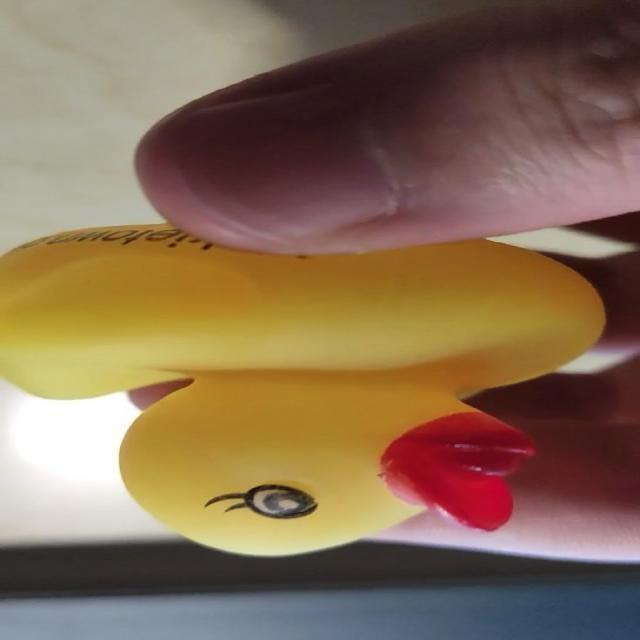rubber-duck: (0, 223, 613, 556), (529, 424, 615, 484)
